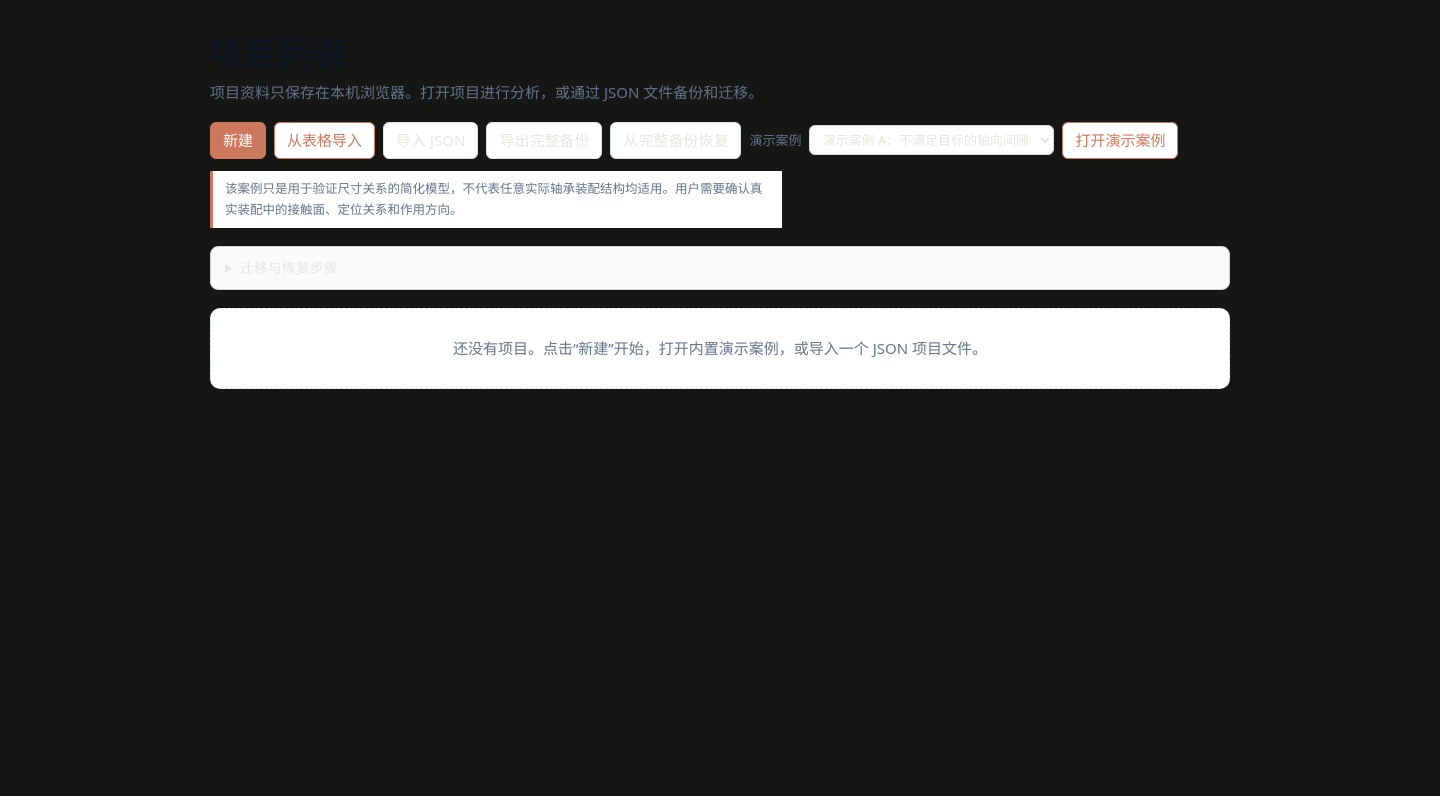
Test: App：项目列表与工作台路由 › 新建两个项目后返回列表，列表显示两条
This screenshot has width=1440, height=796.
Check: the text "还没有项目。点击“新建”开始，打开内置演示案例，或导入一个 JSON 项目文件。" is shown, box [453,338,987,358]
Click the button "新建" at coordinates (238, 140), box [210,122,266,159]
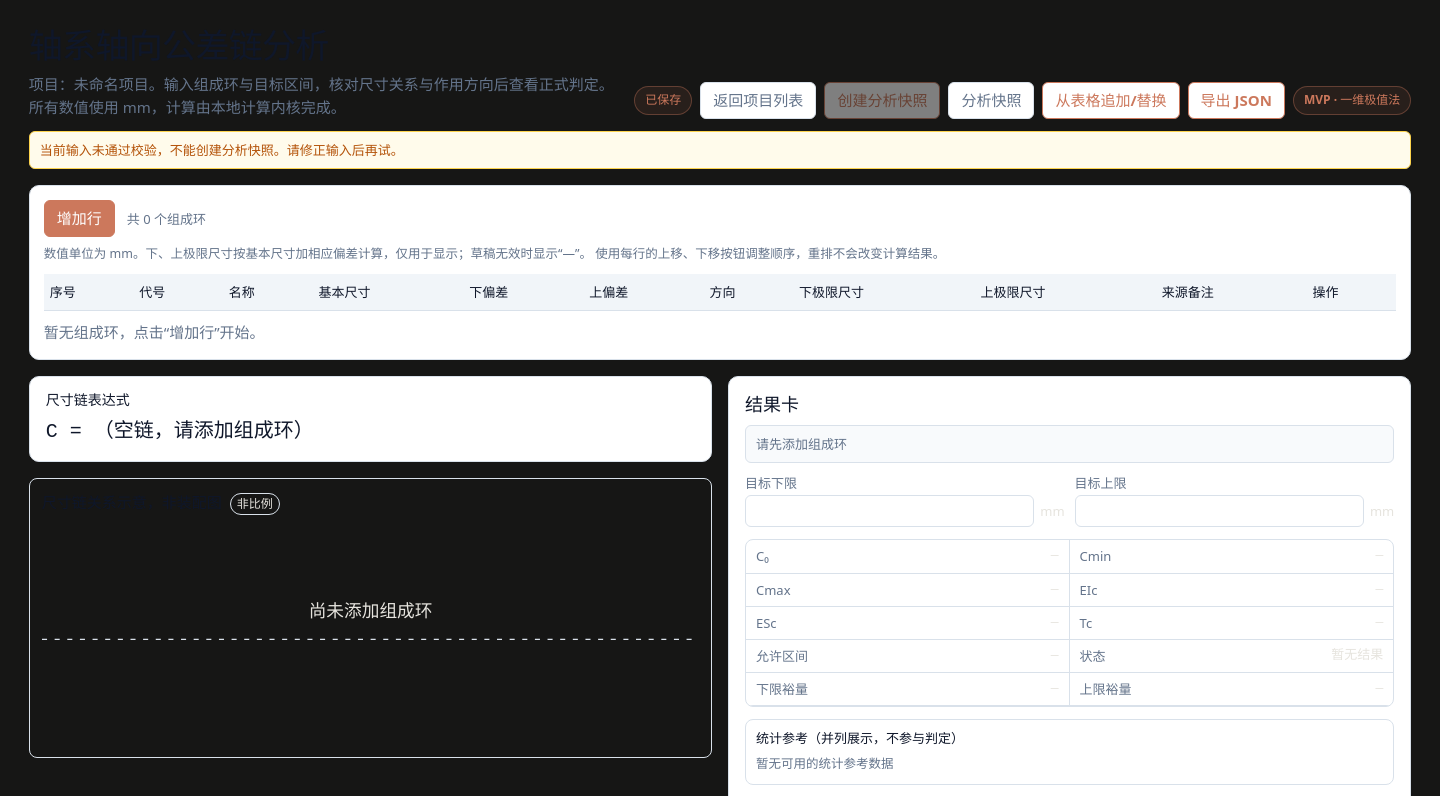
Check: the button "增加行" is shown, box [44,200,115,237]
Click the button "返回项目列表" at coordinates (758, 100), box [700,82,816,119]
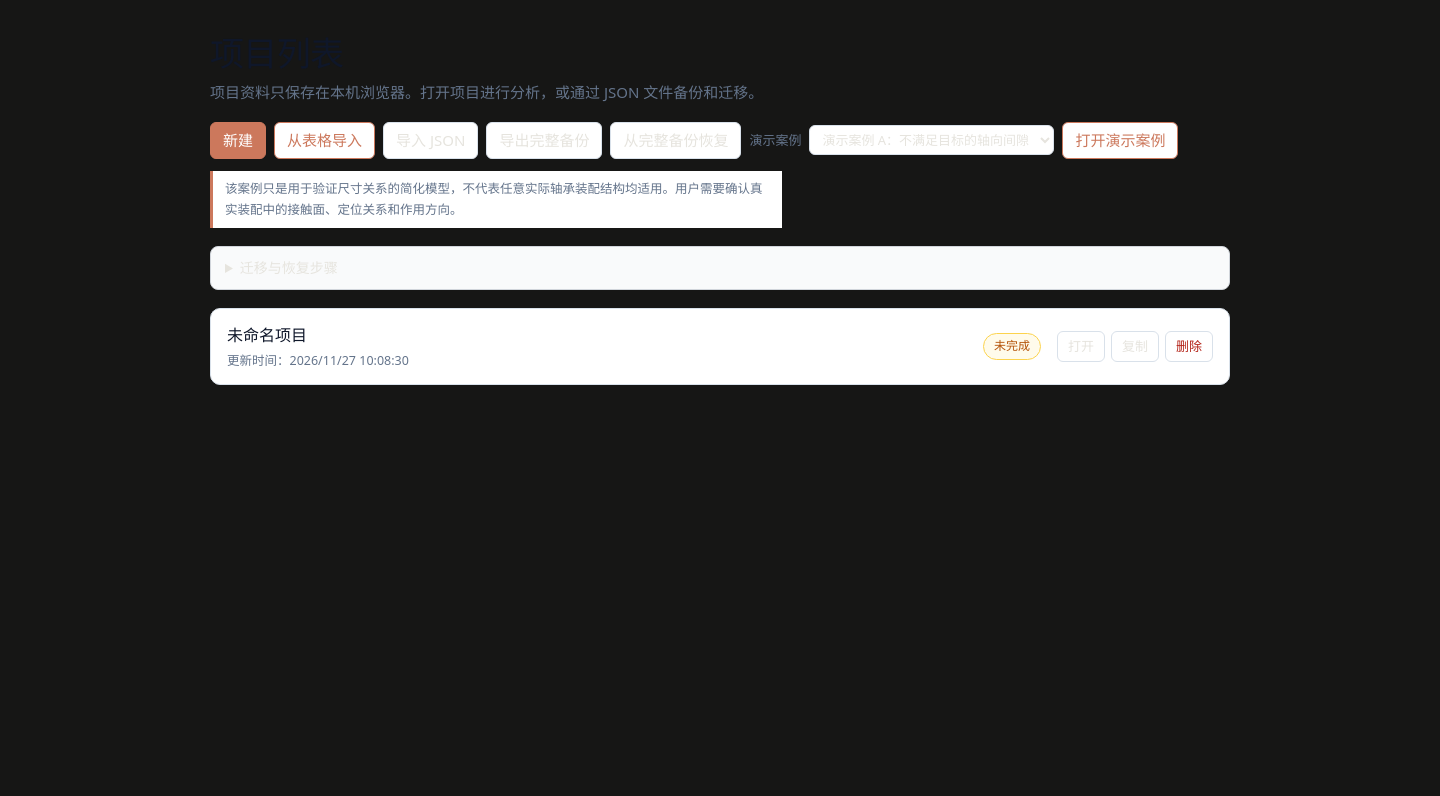
Click the button "新建" at coordinates (238, 140), box [210,122,266,159]
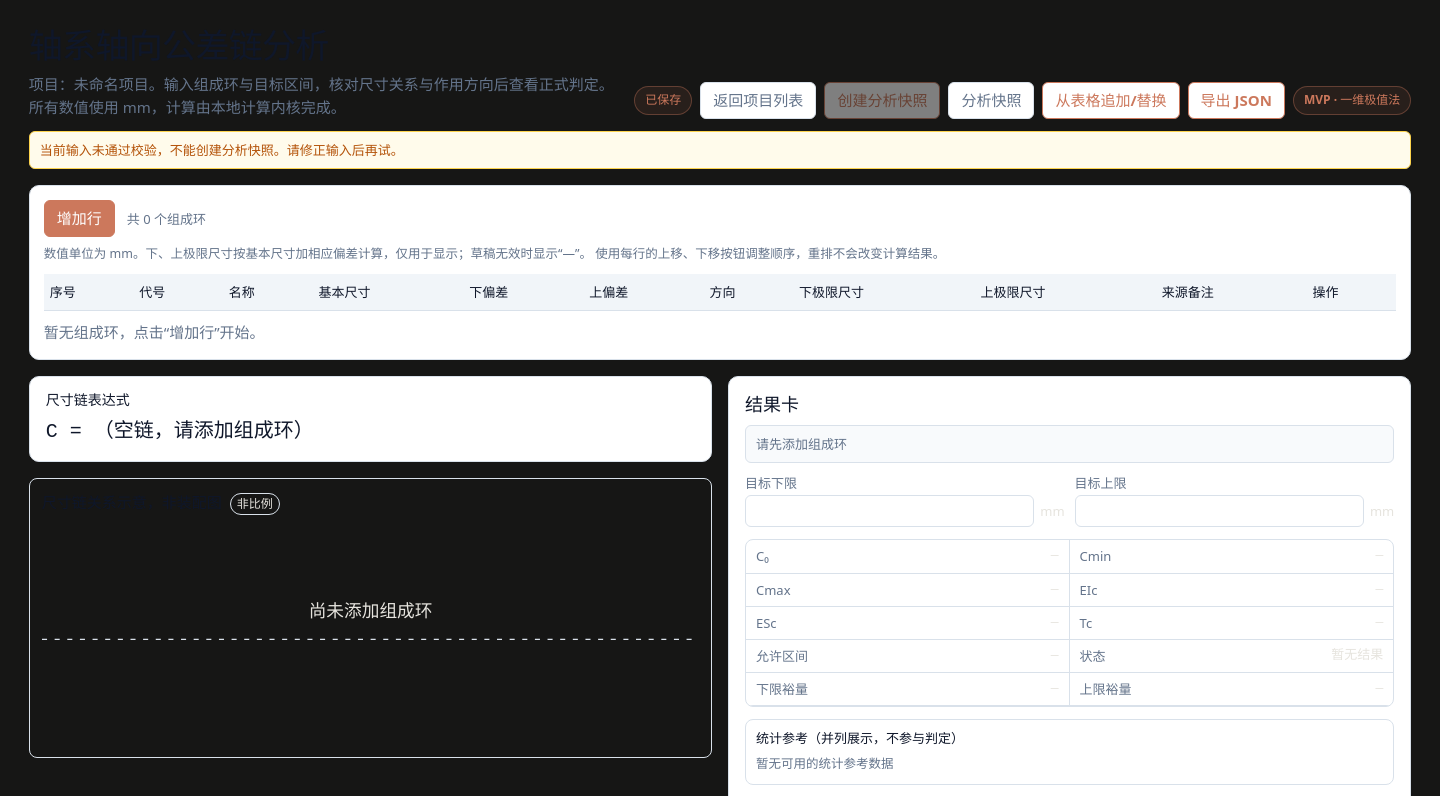
Check: the button "增加行" is shown, box [44,200,115,237]
Click the button "返回项目列表" at coordinates (758, 100), box [700,82,816,119]
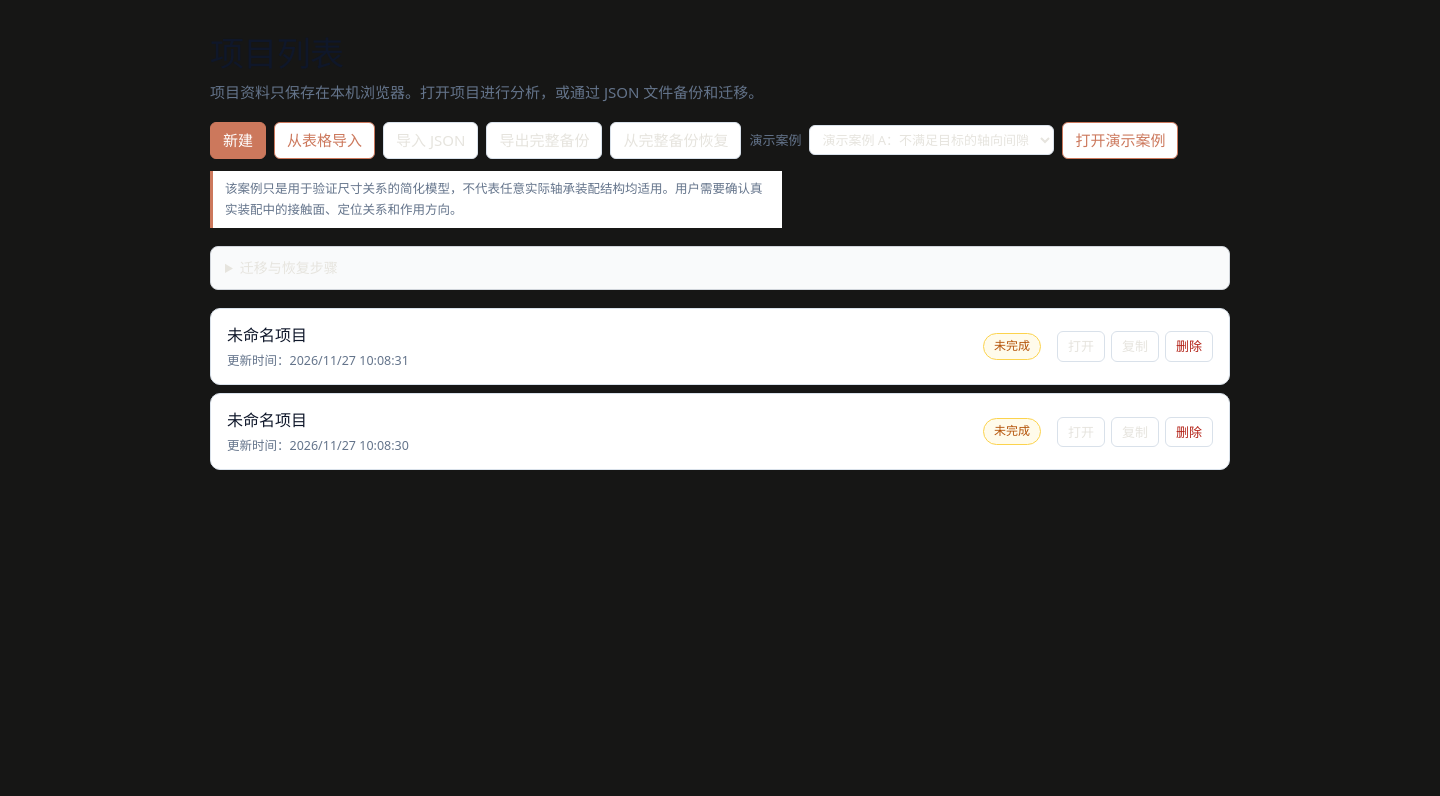
Check: the number of list items is 2, box [210,308,1230,385]; [210,393,1230,470]
